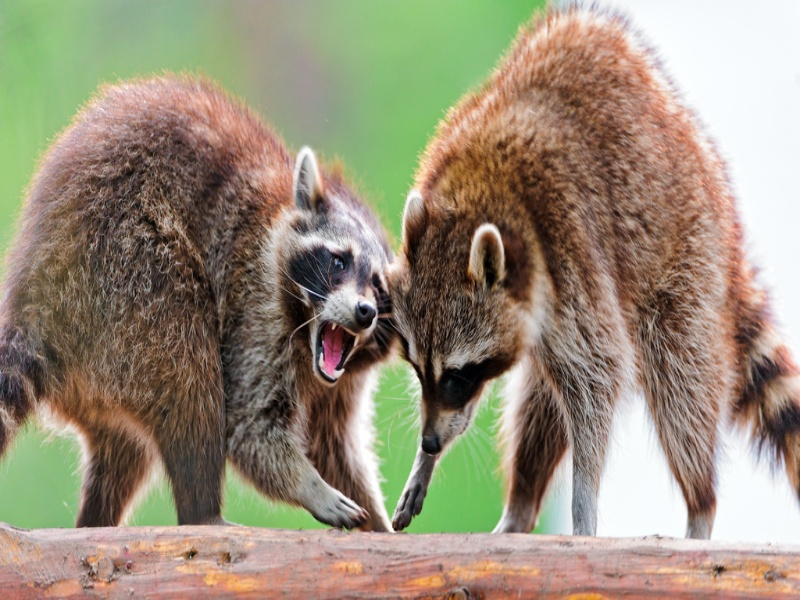raccoon: (386, 8, 798, 542), (1, 70, 401, 544)
